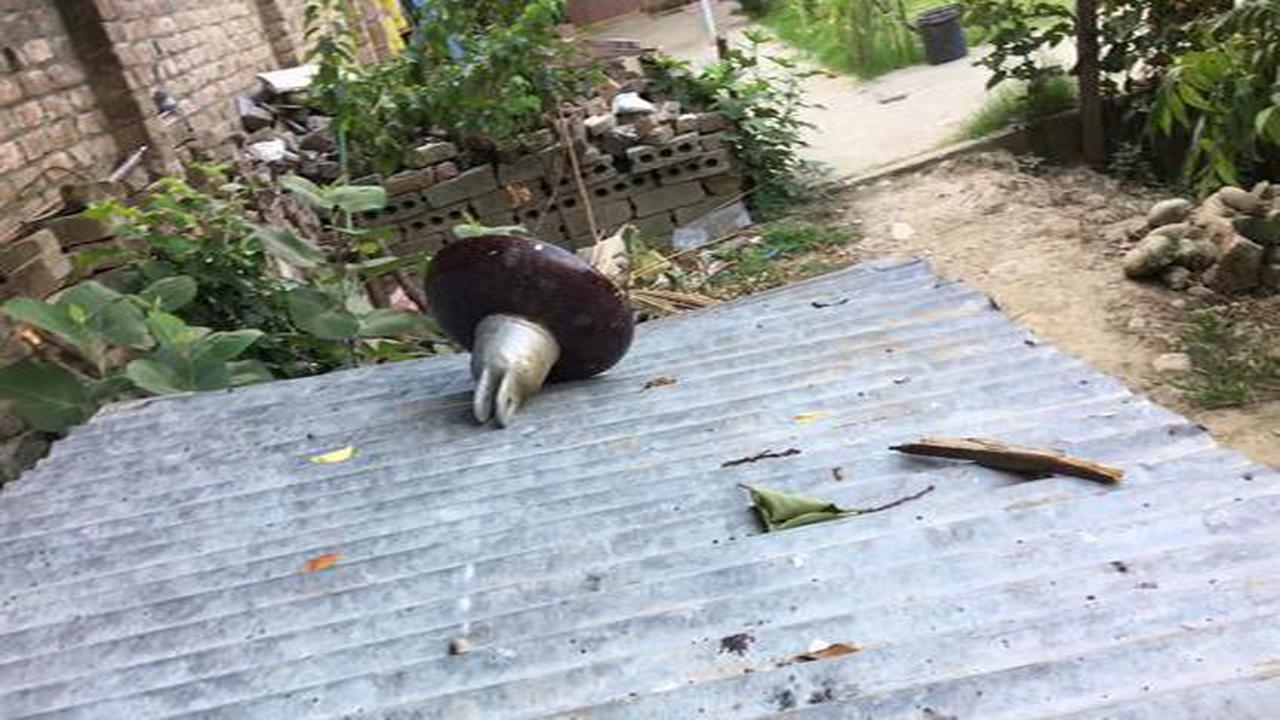insulator_disc: (420, 230, 638, 435)
